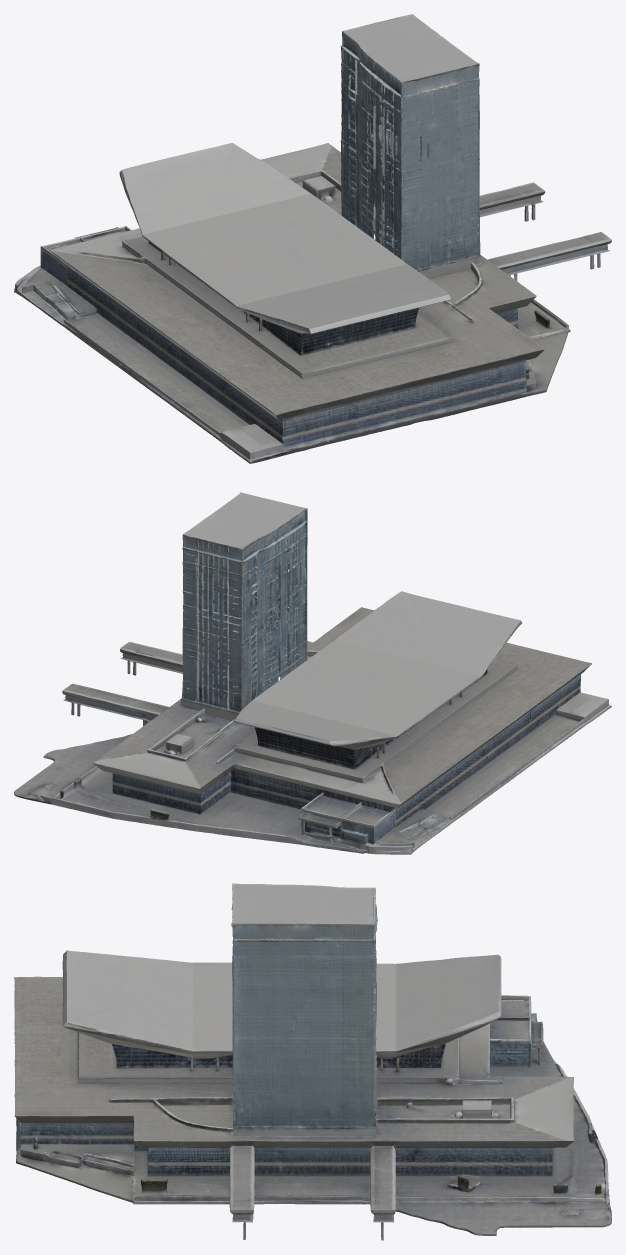
The model's file is terminal.glb.
The picture shows the model from 3 angles, top to bottom: view 1: azimuth 30°, elevation 25°; view 2: azimuth 150°, elevation 25°; view 3: azimuth 270°, elevation 25°; orthographic projection. The views are drawn at different scales.
Parts seen in each view (by area): view 1: tripo_node_53a5d50e-fbb4-4799-936a-efaef6d6c3f4; view 2: tripo_node_53a5d50e-fbb4-4799-936a-efaef6d6c3f4; view 3: tripo_node_53a5d50e-fbb4-4799-936a-efaef6d6c3f4.
Part boxes in pixels (box(x1,y1,x2,y2)): tripo_node_53a5d50e-fbb4-4799-936a-efaef6d6c3f4: box(14, 14, 611, 463); tripo_node_53a5d50e-fbb4-4799-936a-efaef6d6c3f4: box(14, 492, 611, 854); tripo_node_53a5d50e-fbb4-4799-936a-efaef6d6c3f4: box(14, 883, 611, 1240).
Size of the model in its own units: 0.942 by 0.4783 by 0.9975.
1 material, 1 textured.
